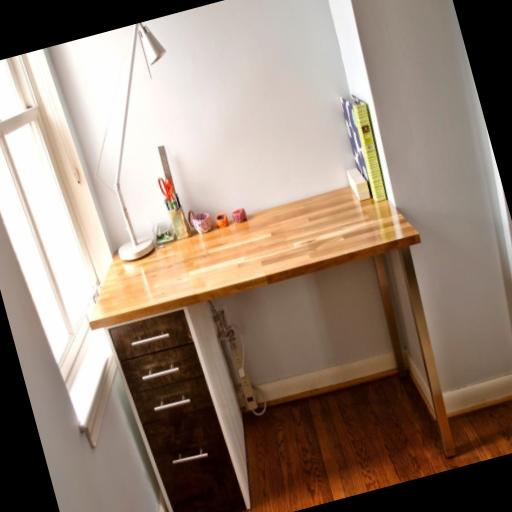desk: (72, 170, 478, 512)
wall: (40, 0, 427, 439), (311, 0, 512, 421), (0, 47, 176, 512)
